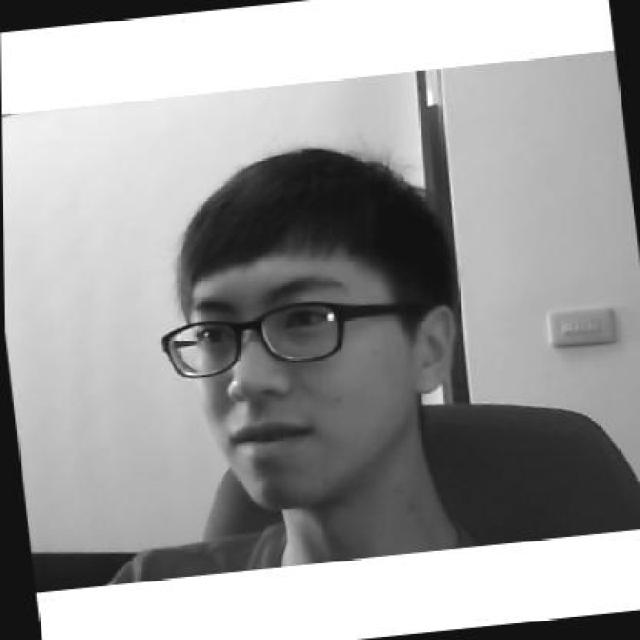attentif: (138, 132, 474, 518)
